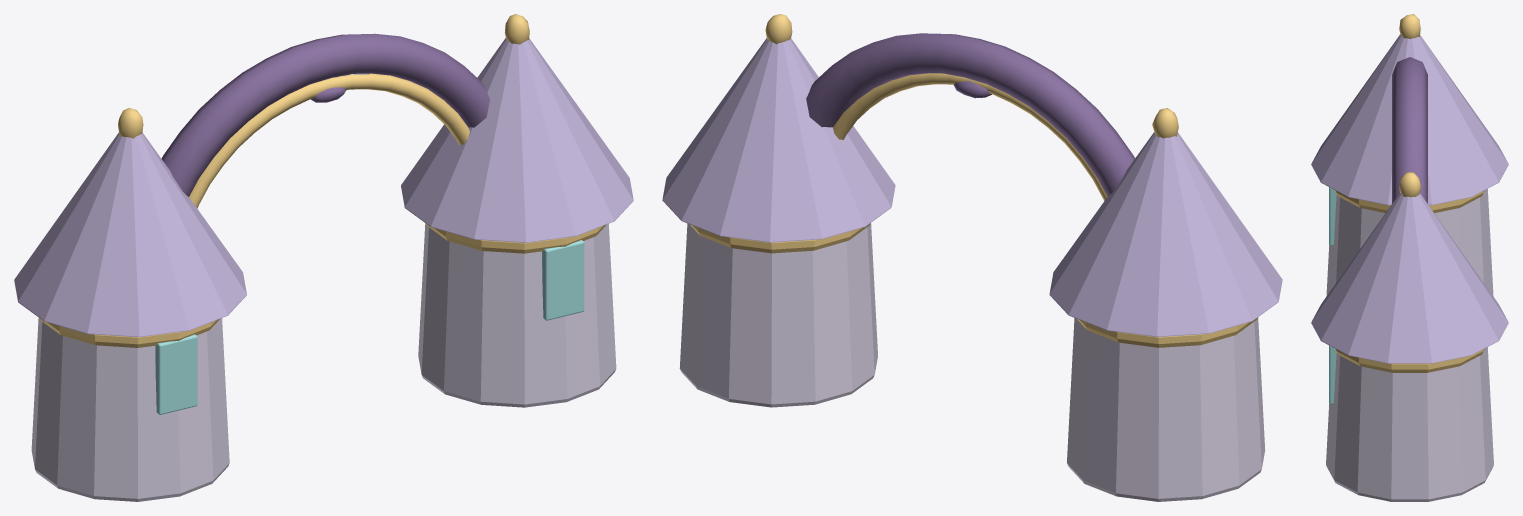
File: lagoon_entry_gatehouse.glb
The picture shows the model from 3 angles, left to right: view 1: azimuth 30°, elevation 25°; view 2: azimuth 150°, elevation 25°; view 3: azimuth 270°, elevation 25°; orthographic projection. The views are drawn at different scales.
Visible parts, largest first — view 1: lagoon_entry_gatehouse.001; view 2: lagoon_entry_gatehouse.001; view 3: lagoon_entry_gatehouse.001.
Boxes of the visible parts, x1,y1,x2,y2 form: lagoon_entry_gatehouse.001: (14,14,633,501); lagoon_entry_gatehouse.001: (662,14,1282,501); lagoon_entry_gatehouse.001: (1311,14,1508,501).
Size of the model in its own units: 15.14 by 9.28 by 5.28.
